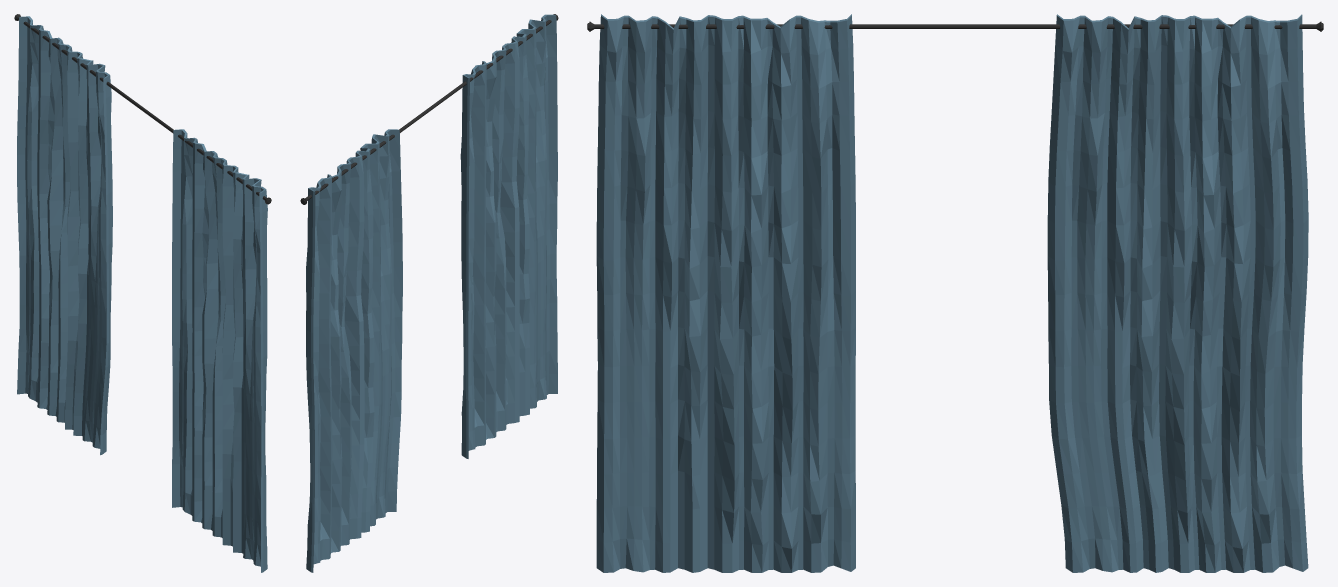
Rendered from 0ccb4166-2208-41d8-bdef-0c7018a4551c.glb.
The picture shows the model from 3 angles, left to right: view 1: azimuth 30°, elevation 25°; view 2: azimuth 150°, elevation 25°; view 3: azimuth 270°, elevation 25°; orthographic projection. The views are drawn at different scales.
Visible parts, largest first — view 1: Node; view 2: Node; view 3: Node.
Boxes of the visible parts, left/top/right/bottom form: Node: left=14, top=14, right=271, bottom=572; Node: left=300, top=14, right=558, bottom=572; Node: left=587, top=14, right=1323, bottom=572.
Size of the model in its own units: 0.4746 by 7.65 by 9.2.
